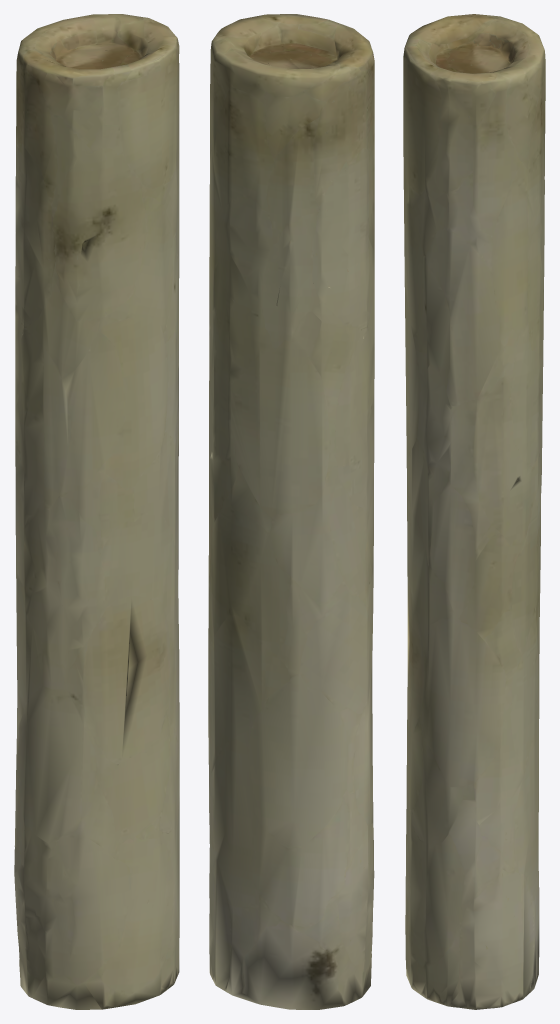
Rendered from jade-tube-overview.glb.
3 views of the same model, side by side, from view 1: azimuth 30°, elevation 25°; view 2: azimuth 150°, elevation 25°; view 3: azimuth 270°, elevation 25° (orthographic).
Visible parts, largest first — view 1: node_0; view 2: node_0; view 3: node_0.
Part boxes in pixels (box(x1,y1,x2,y2)): node_0: box(14, 14, 179, 1009); node_0: box(208, 14, 374, 1009); node_0: box(403, 14, 545, 1009).
Size of the model in its own units: 0.1982 by 1.19 by 0.1641.
Materials: 1 (1 with a texture image).
